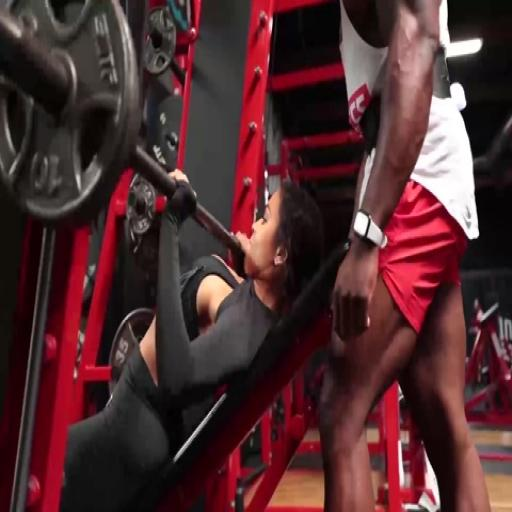exercise: (51, 165, 332, 511), (314, 0, 496, 511)
